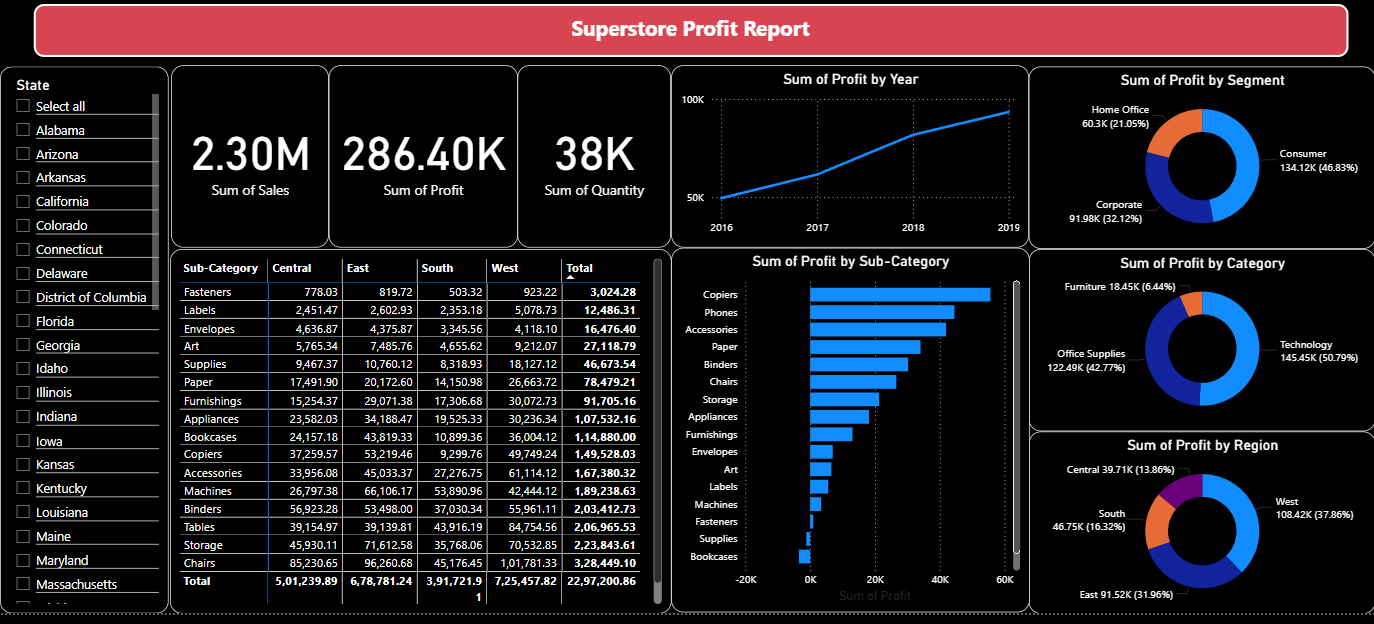

Layout of this report page (visuals, bound fields, positions):
{"tool":"powerbi","page":{"name":"Page 1","canvas":[1600,720],"ordinal":0},"visuals":[{"type":"textbox","box":[38.9,11.3,1528.6,61.5],"z":0},{"type":"donutChart","fields":{"Y":["Sum(Orders.Profit)"],"Category":["Orders.Region"]},"box":[1196.6,508.4,403.2,212.1],"z":1000},{"type":"donutChart","fields":{"Y":["Sum(Orders.Profit)"],"Category":["Orders.Segment"]},"box":[1196.6,84.2,403.2,212.1],"z":2000},{"type":"donutChart","fields":{"Y":["Sum(Orders.Profit)"],"Category":["Orders.Category"]},"box":[1196.6,296.3,403.2,212.1],"z":3000},{"type":"barChart","fields":{"Category":["Orders.Sub-Category"],"Y":["Sum(Orders.Profit)"]},"box":[779.8,295.3,416.4,424],"z":4000},{"type":"lineChart","fields":{"Category":["Orders.Order Date.Variation.Date Hierarchy.Year","Orders.Order Date.Variation.Date Hierarchy.Quarter","Orders.Order Date.Variation.Date Hierarchy.Month","Orders.Order Date.Variation.Date Hierarchy.Day"],"Y":["Sum(Orders.Profit)"]},"box":[780.5,82.6,416.1,212.1],"z":5000},{"type":"slicer","fields":{"Values":["Orders.State"]},"box":[0,84.2,195.9,636.4],"z":6000},{"type":"pivotTable","fields":{"Rows":["Orders.Sub-Category"],"Values":["Sum(Orders.Sales)"],"Columns":["Orders.Region"]},"box":[197.5,296.3,582.9,424.2],"z":7000},{"type":"card","fields":{"Values":["Sum(Orders.Sales)"]},"box":[198.7,83.3,183.6,212],"z":8000},{"type":"card","fields":{"Values":["Sum(Orders.Profit)"]},"box":[382.1,82.6,220.2,212.1],"z":9000},{"type":"card","fields":{"Values":["Sum(Orders.Quantity)"]},"box":[602.4,82.6,178.1,212.1],"z":10000}]}

Visuals, with their boxes in screenshot pixels (x1, y1, x2, y2), scaled from the page's 1600x720 canvas onto the 1374x624 screenshot:
textbox: BBox(33, 10, 1346, 63)
donutChart - Sum(Orders.Profit) x Orders.Region: BBox(1028, 441, 1373, 623)
donutChart - Sum(Orders.Profit) x Orders.Segment: BBox(1028, 73, 1373, 257)
donutChart - Sum(Orders.Profit) x Orders.Category: BBox(1028, 257, 1373, 441)
barChart - Orders.Sub-Category x Sum(Orders.Profit): BBox(670, 256, 1027, 623)
lineChart - Orders.Order Date.Variation.Date Hierarchy.Year x Orders.Order Date.Variation.Date Hierarchy.Quarter: BBox(670, 72, 1028, 255)
slicer - Orders.State: BBox(0, 73, 168, 623)
pivotTable - Orders.Sub-Category x Sum(Orders.Sales): BBox(170, 257, 670, 623)
card - Sum(Orders.Sales): BBox(171, 72, 328, 256)
card - Sum(Orders.Profit): BBox(328, 72, 517, 255)
card - Sum(Orders.Quantity): BBox(517, 72, 670, 255)
